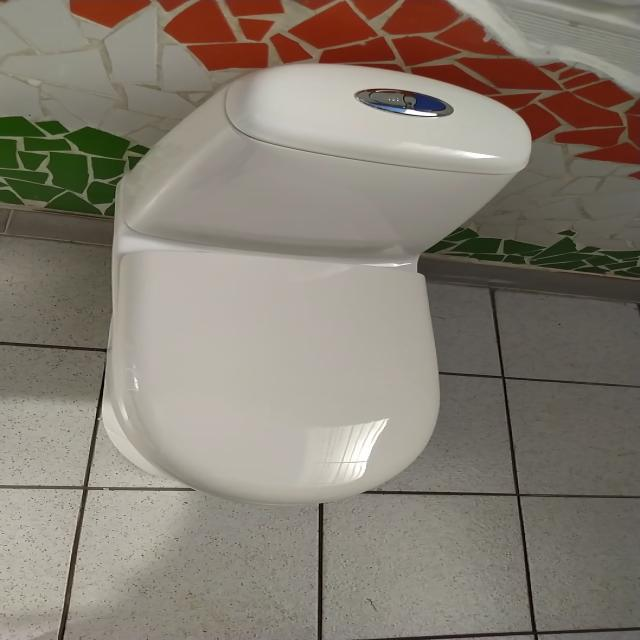toilet: (100, 62, 532, 506)
